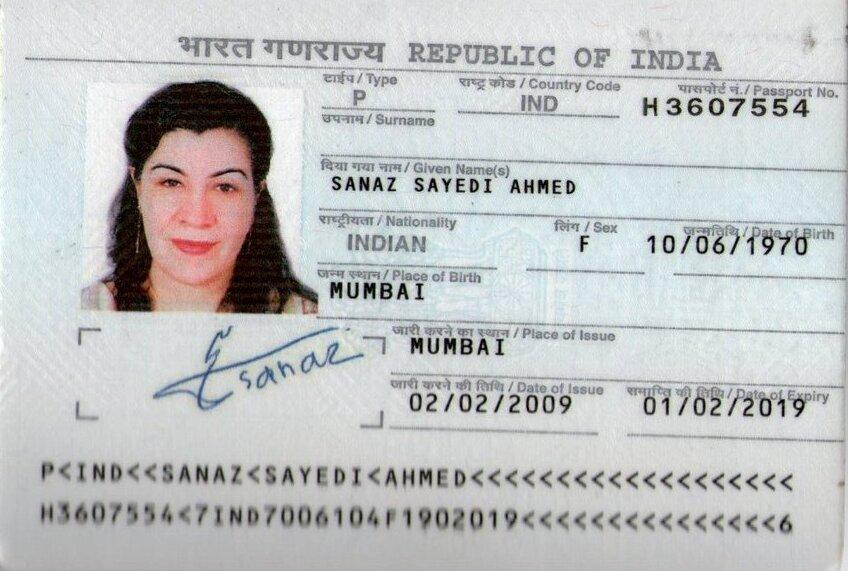DOB: (633, 230, 823, 267)
country_code: (496, 84, 575, 123)
date_of_expiry: (626, 389, 817, 434)
date_of_issue: (396, 383, 575, 434)
details: (21, 454, 824, 550)
name: (323, 166, 596, 207)
nationality: (321, 222, 464, 260)
passport_no: (628, 84, 833, 133)
photo: (80, 85, 298, 314)
place_of_birth: (321, 275, 465, 315)
place_of_issue: (392, 329, 523, 366)
sex: (535, 230, 617, 264)
sign: (106, 325, 365, 432)
type: (323, 81, 394, 113)
